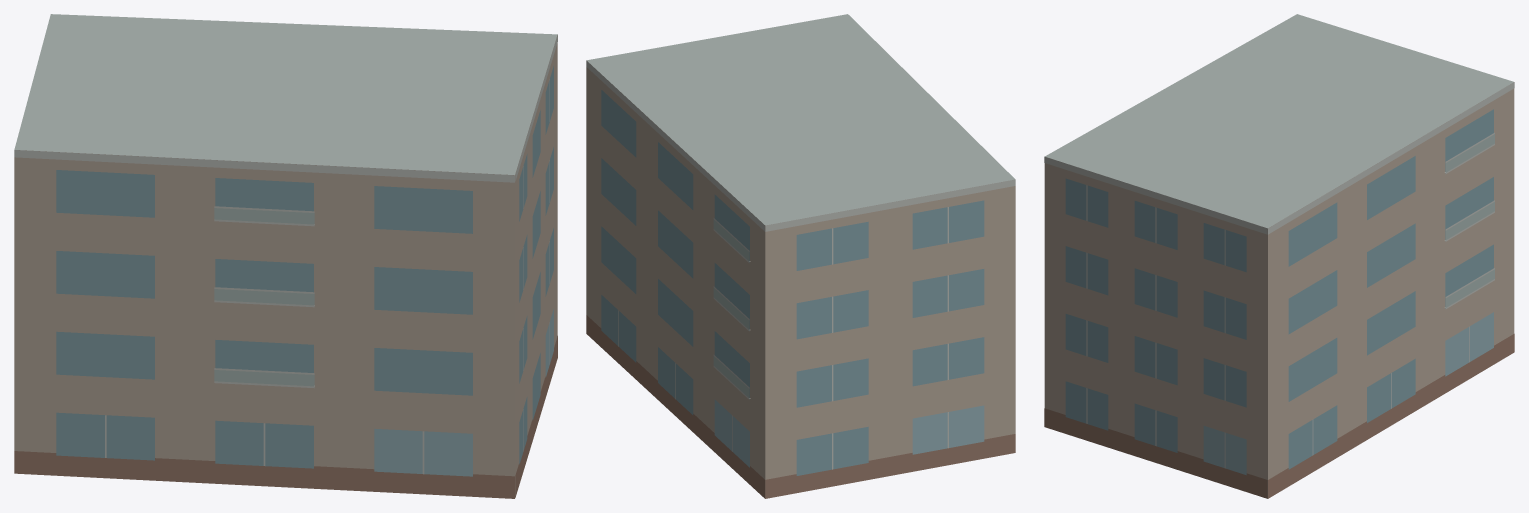
The model's file is survey-upis-33022191.glb.
3 renders of one model, left to right at view 1: azimuth 30°, elevation 25°; view 2: azimuth 150°, elevation 25°; view 3: azimuth 270°, elevation 25°, orthographic. The views are drawn at different scales.
Parts seen in each view (by area): view 1: survey-upis-33022191.tmp; view 2: survey-upis-33022191.tmp; view 3: survey-upis-33022191.tmp.
Part boxes in pixels (x1,y1,x2,y2): survey-upis-33022191.tmp: [14, 14, 557, 498]; survey-upis-33022191.tmp: [586, 14, 1015, 498]; survey-upis-33022191.tmp: [1044, 14, 1514, 498].
Bounding box in the file's own units: 17.69 × 10.4 × 16.38.
